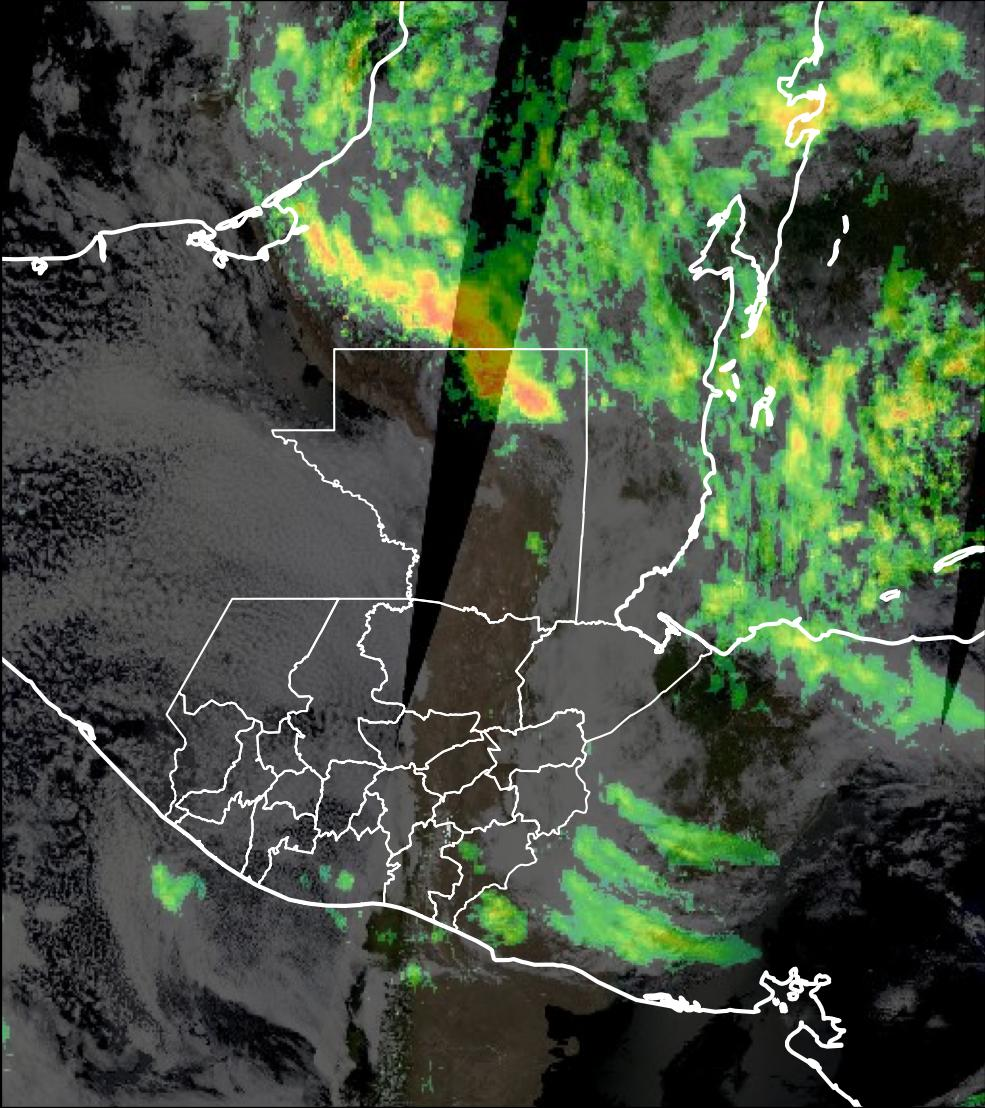precipitacion: (404, 269, 582, 444)
